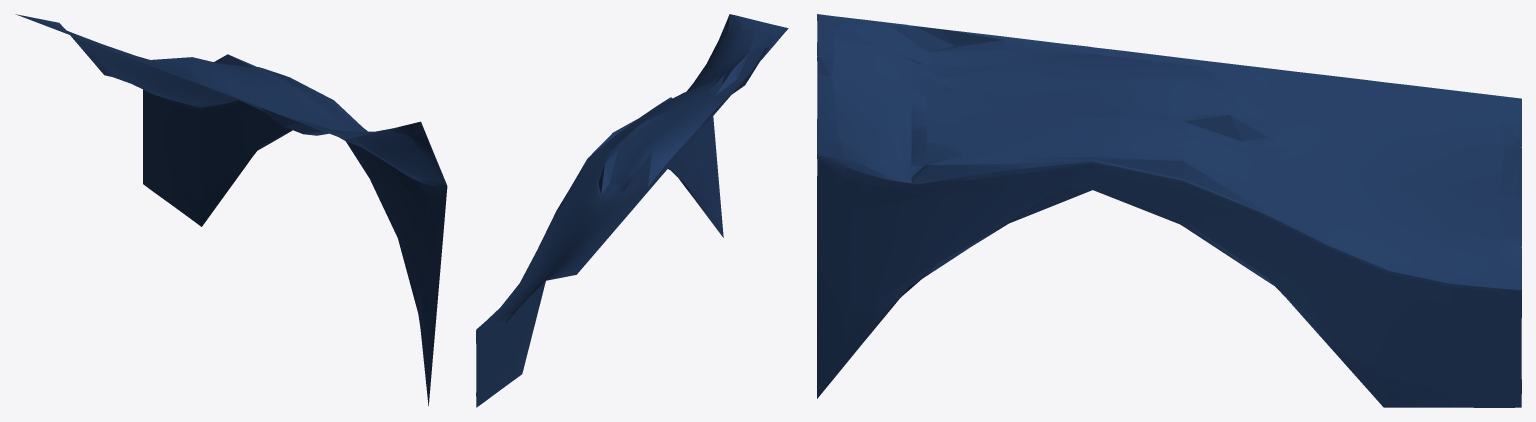
Rendered from front_left_fender.glb.
3 views of the same model, side by side, from view 1: azimuth 30°, elevation 25°; view 2: azimuth 150°, elevation 25°; view 3: azimuth 270°, elevation 25° (orthographic). The views are drawn at different scales.
Visible parts, largest first — view 1: GEO_Fender_Front_Left; view 2: GEO_Fender_Front_Left; view 3: GEO_Fender_Front_Left.
Boxes of the visible parts, left/top/right/bottom form: GEO_Fender_Front_Left: left=15, top=14, right=447, bottom=405; GEO_Fender_Front_Left: left=476, top=14, right=788, bottom=407; GEO_Fender_Front_Left: left=817, top=14, right=1521, bottom=407.
Bounding box in the file's own units: 0.3648 × 0.7297 × 1.38.
